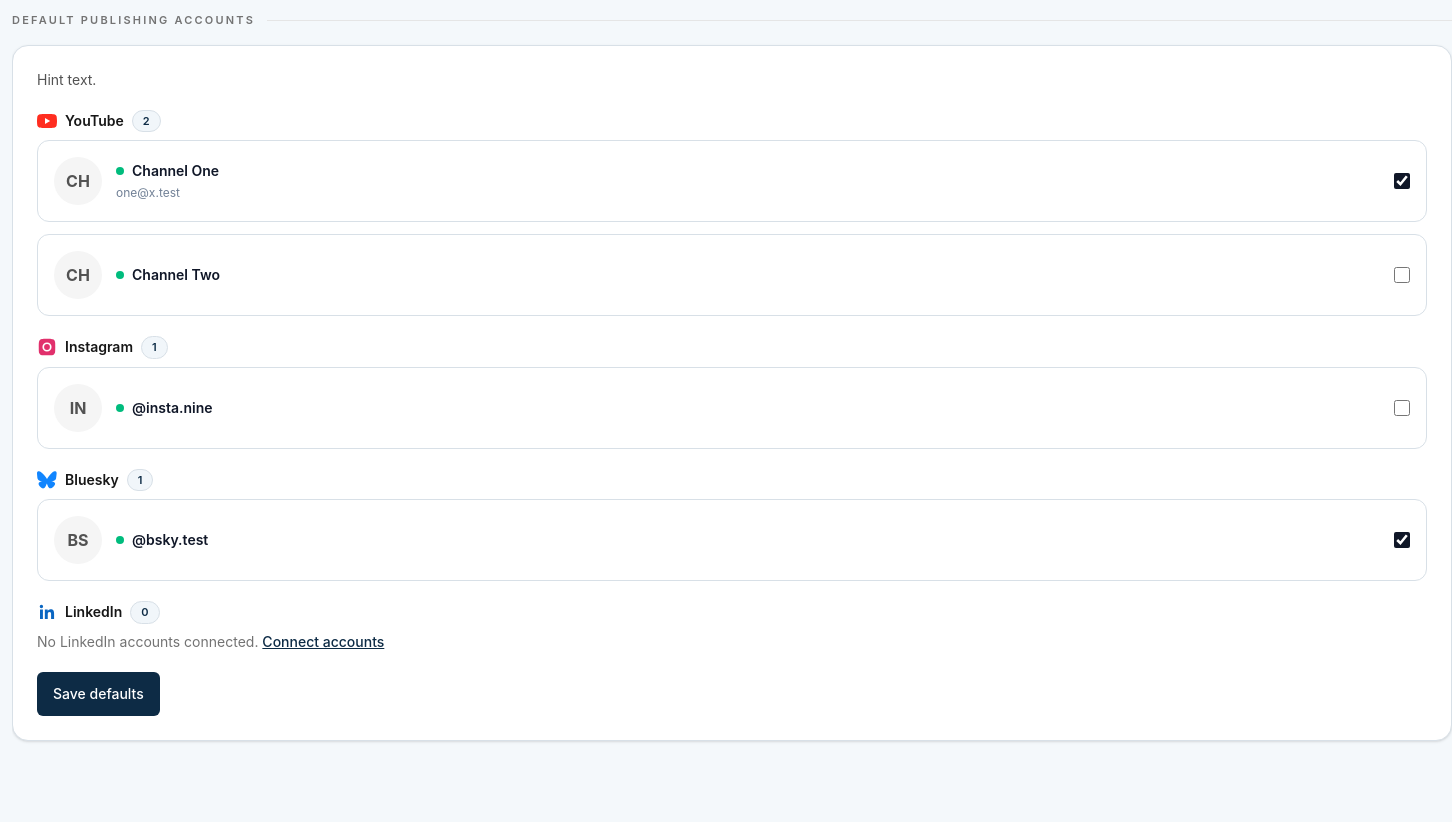
it: PersonaPublishingAccountsSection › saves the full selection with PUT and shows the confirmation
Expected: the button with test id "publishing-accounts-save" is shown, [37,672,160,716]
Check UC-2 as well, then save.
Click the checkbox with test id "account-card-select" showing "CH Channel Two".
click(1402, 275)  # box [1394,253,1410,297]
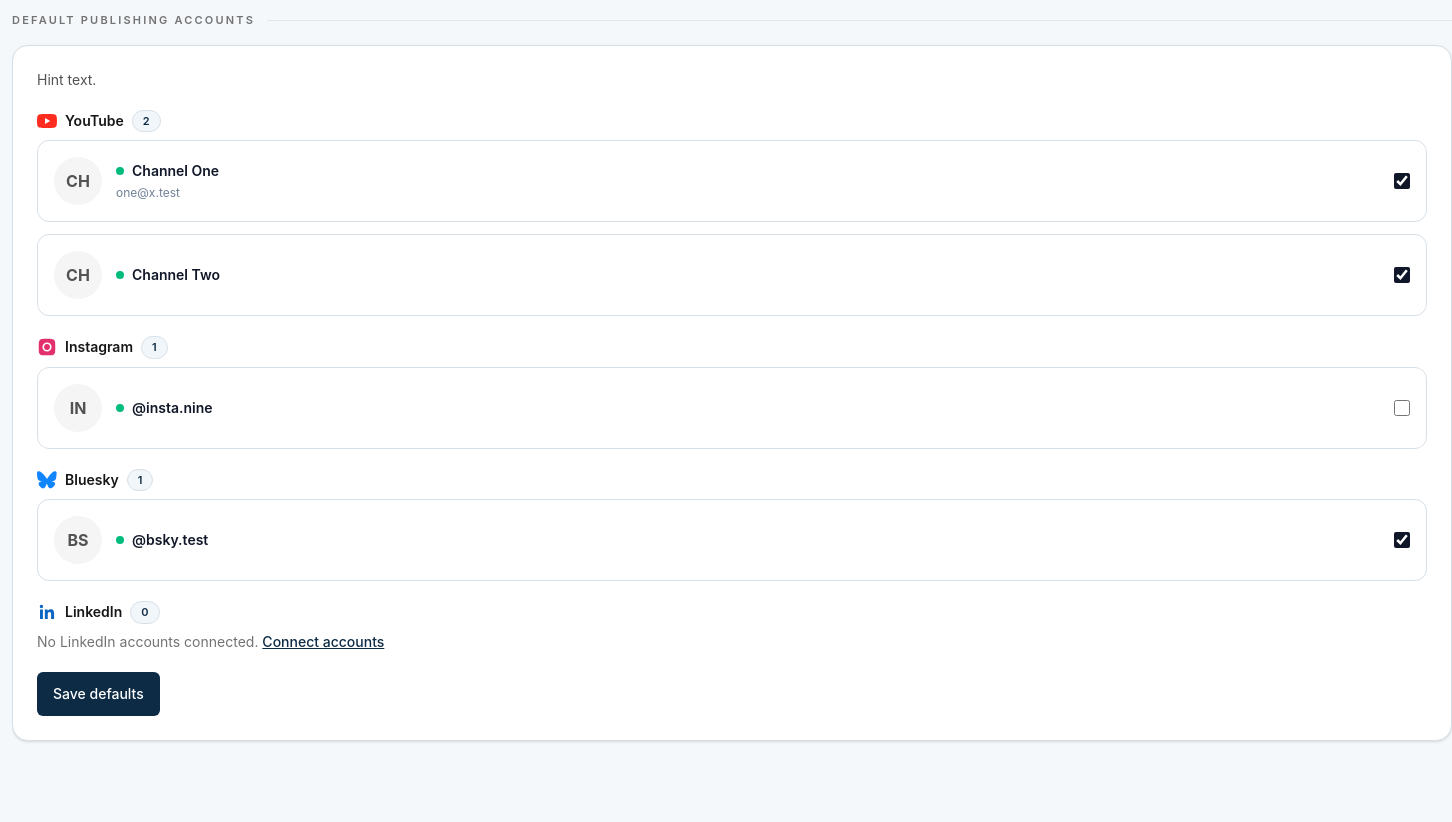
Click the button with test id "publishing-accounts-save".
click(98, 694)  # box [37,672,160,716]
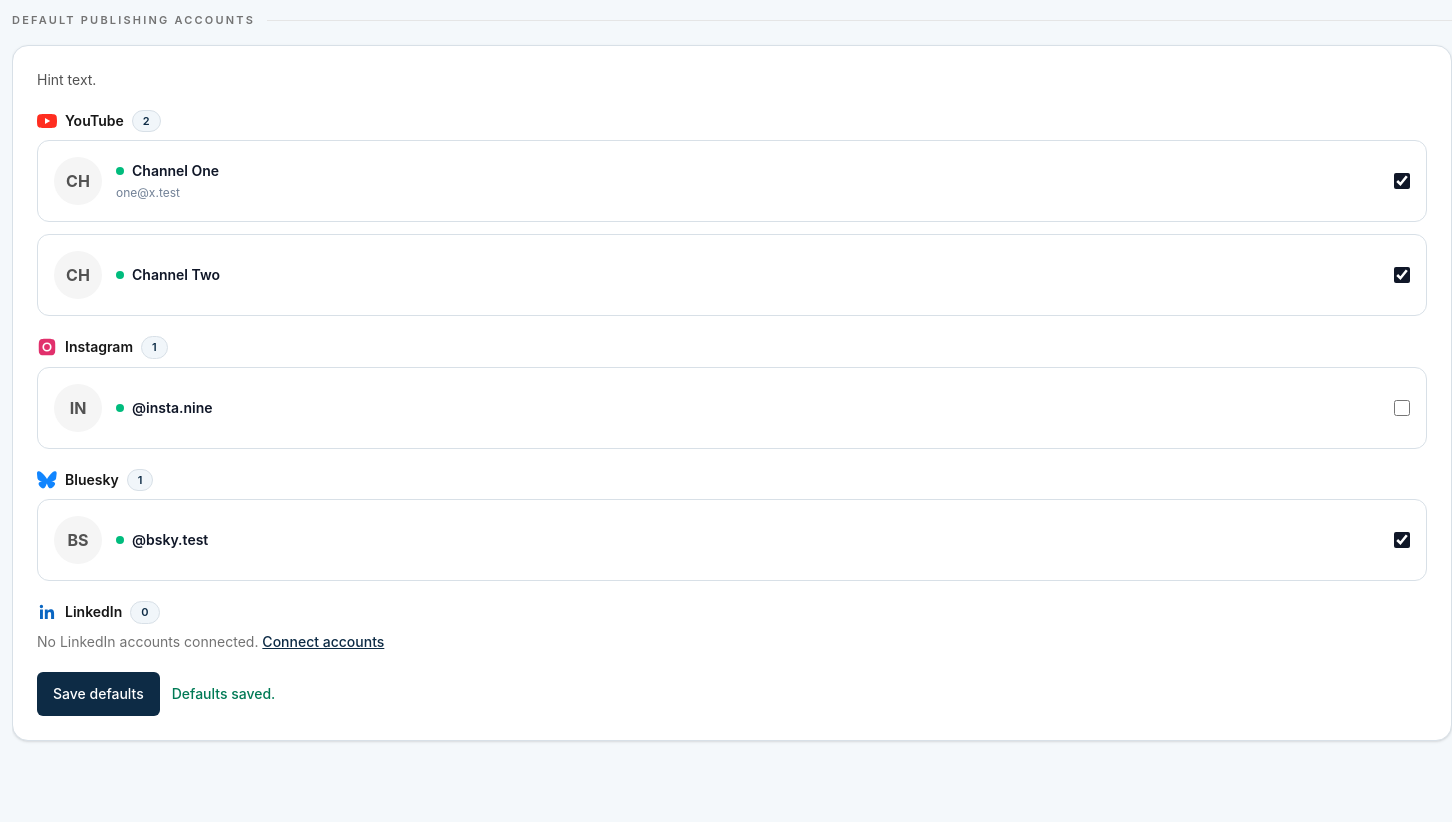
Result: the text "Defaults saved." is shown at [172,684,275,704]
